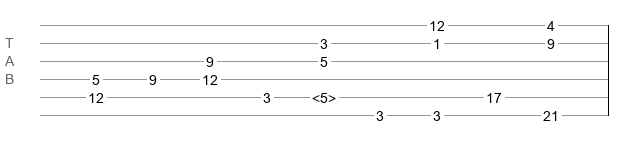1: (433, 36, 441, 46)
12: (88, 90, 104, 100), (202, 72, 218, 82), (429, 18, 445, 28)
17: (486, 90, 502, 100)
21: (543, 108, 559, 118)
3: (263, 90, 271, 100), (320, 36, 328, 46), (376, 108, 384, 118), (433, 108, 441, 118)
4: (547, 18, 555, 28)
5: (92, 72, 100, 82), (320, 54, 328, 64)
9: (149, 72, 157, 82), (206, 54, 214, 64), (547, 36, 555, 46)
harmonic: (312, 90, 336, 100)
